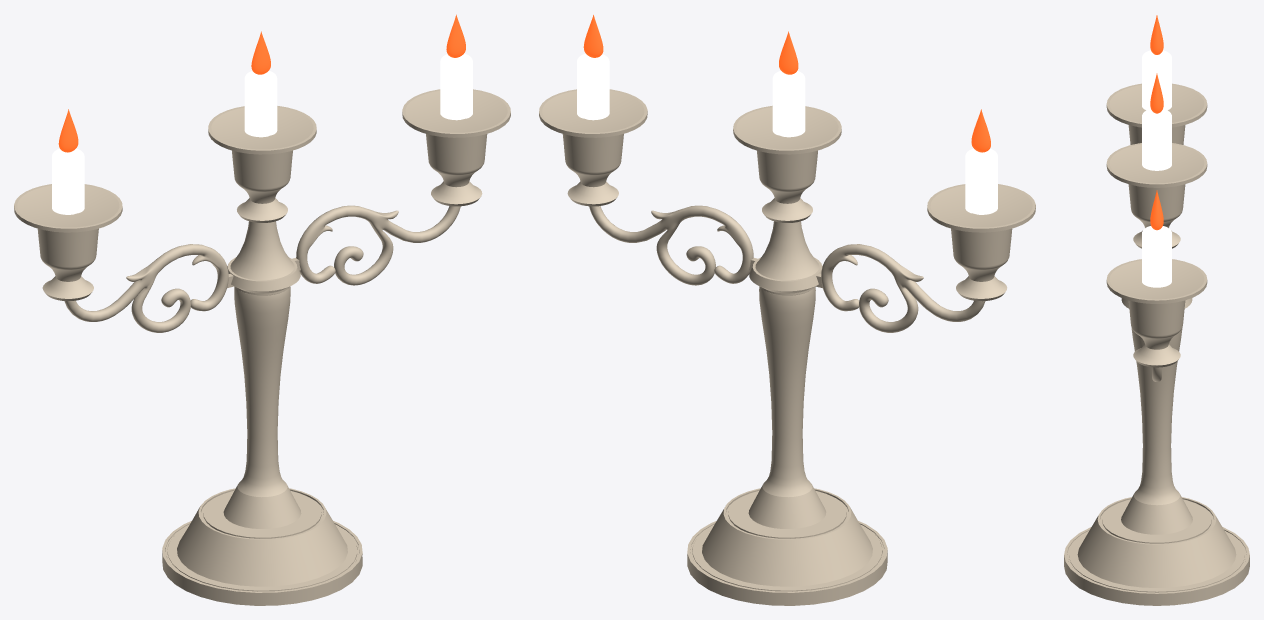
3 renders of one model, left to right at view 1: azimuth 30°, elevation 25°; view 2: azimuth 150°, elevation 25°; view 3: azimuth 270°, elevation 25°, orthographic. The views are drawn at different scales.
Visible parts, largest first — view 1: 377_燭台; view 2: 377_燭台; view 3: 377_燭台, fire3, fire, fire2.
Part boxes in pixels (x1,y1,x2,y2): 377_燭台: (14, 53, 510, 605); 377_燭台: (539, 53, 1035, 605); 377_燭台: (1064, 50, 1249, 605); fire3: (1150, 190, 1163, 230); fire: (1150, 73, 1163, 113); fire2: (1150, 15, 1163, 54).
Bounding box in the file's own units: 0.3996 × 0.422 × 0.144.
